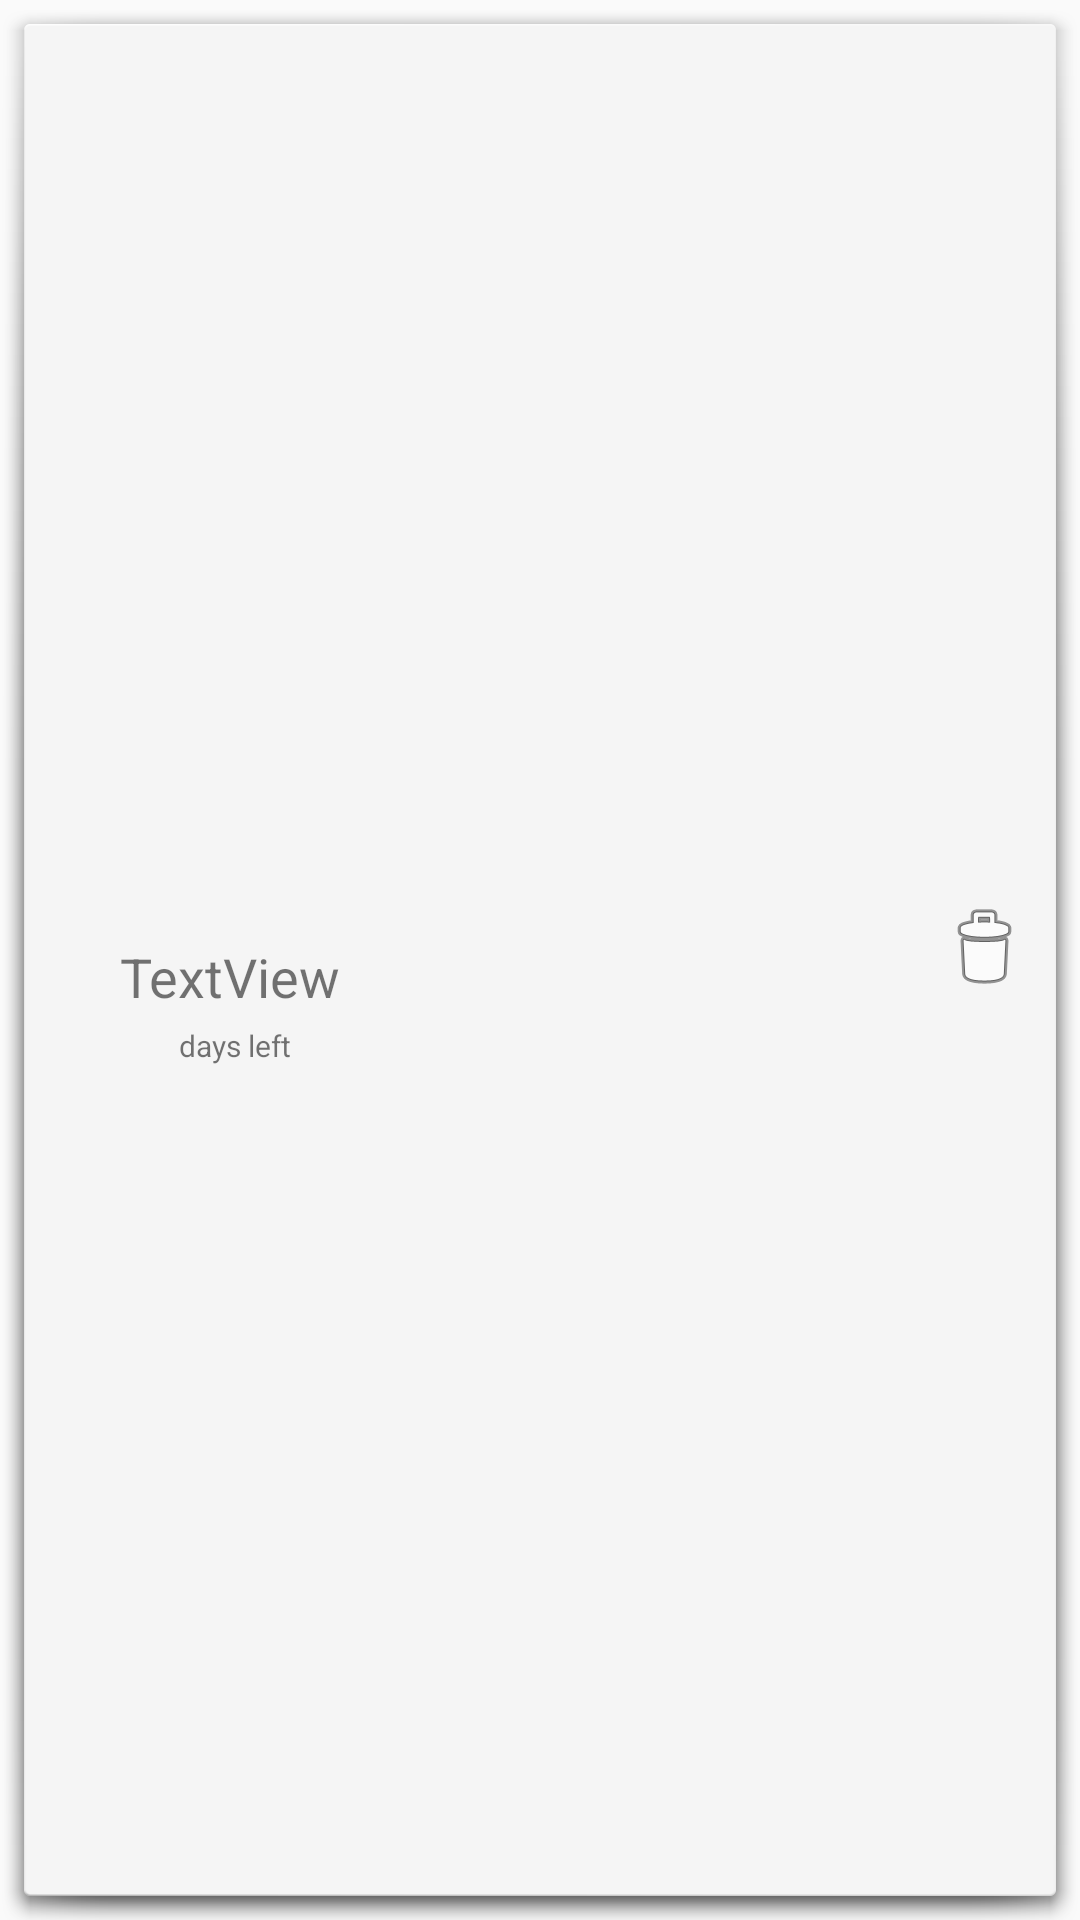

Icons on this 1080 x 1920 Android screen, each with its box as (x1, y1, x2, y2):
delete: (957, 909, 1012, 984)
